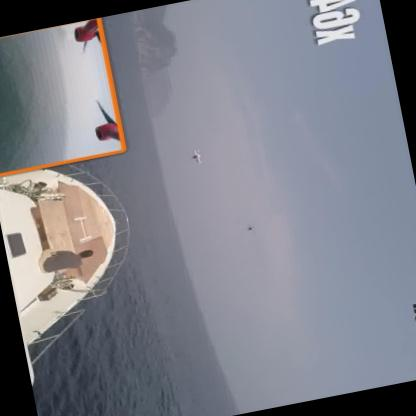drone: (186, 146, 204, 165)
